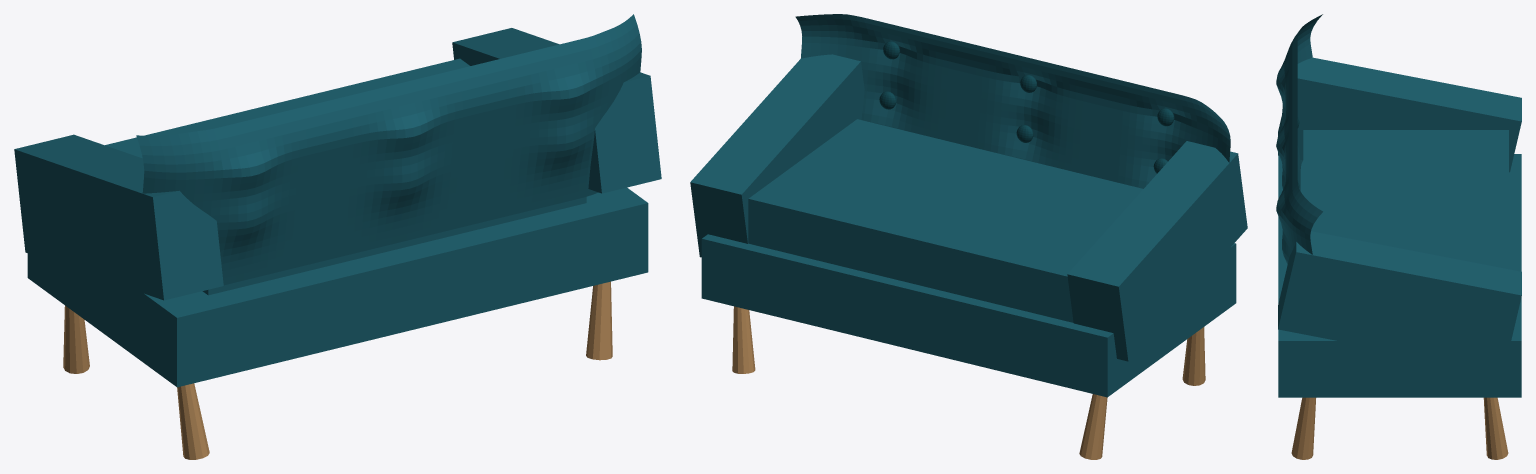
Rendered from sofa-teal.glb.
3 renders of one model, left to right at view 1: azimuth 30°, elevation 25°; view 2: azimuth 150°, elevation 25°; view 3: azimuth 270°, elevation 25°, orthographic. The views are drawn at different scales.
Visible parts, largest first — view 1: Backrest, Base, Arm_L, Arm_R, SeatCushion, Leg_3, Leg_2, Leg_0; view 2: SeatCushion, Backrest, Base, Arm_L, Arm_R, Leg_1, Leg_0, Leg_2; view 3: SeatCushion, Arm_R, Base, Arm_L, Backrest, Leg_1, Leg_3.
Part boxes in pixels (<box>): Backrest: <box>136,14,641,285</box>; Base: <box>27,187,648,387</box>; Arm_L: <box>14,134,223,300</box>; Arm_R: <box>452,28,661,193</box>; SeatCushion: <box>105,58,586,295</box>; Leg_3: <box>586,281,612,360</box>; Leg_2: <box>177,383,209,459</box>; Leg_0: <box>63,305,89,373</box>; SeatCushion: <box>748,119,1143,322</box>; Backrest: <box>795,14,1230,188</box>; Base: <box>701,234,1236,397</box>; Arm_L: <box>1067,141,1247,361</box>; Arm_R: <box>690,54,864,257</box>; Leg_1: <box>732,306,755,373</box>; Leg_0: <box>1079,394,1107,459</box>; Leg_2: <box>1182,327,1205,385</box>; SeatCushion: <box>1303,130,1508,269</box>; Arm_R: <box>1278,231,1521,372</box>; Base: <box>1278,154,1521,397</box>; Arm_L: <box>1278,57,1521,172</box>; Backrest: <box>1276,14,1322,263</box>; Leg_1: <box>1483,397,1508,459</box>; Leg_3: <box>1291,397,1315,459</box>.
Size of the model in its own units: 1.5 by 0.94 by 0.7882.
